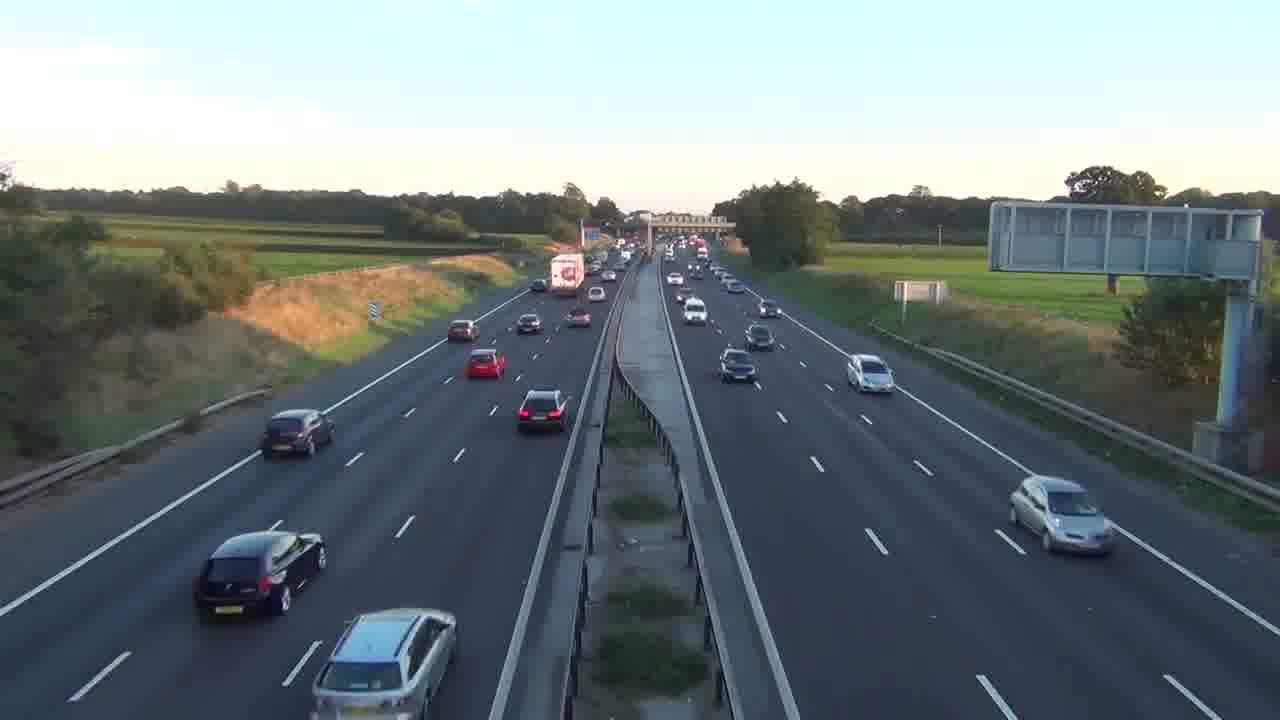car: (309, 606, 459, 719), (192, 521, 328, 620), (259, 408, 335, 456), (515, 386, 570, 434), (845, 353, 895, 394), (719, 346, 758, 383), (464, 348, 508, 380), (744, 322, 775, 351), (447, 319, 479, 343), (513, 312, 542, 335), (564, 309, 592, 328)
truck: (1008, 474, 1115, 557), (547, 252, 586, 295)
